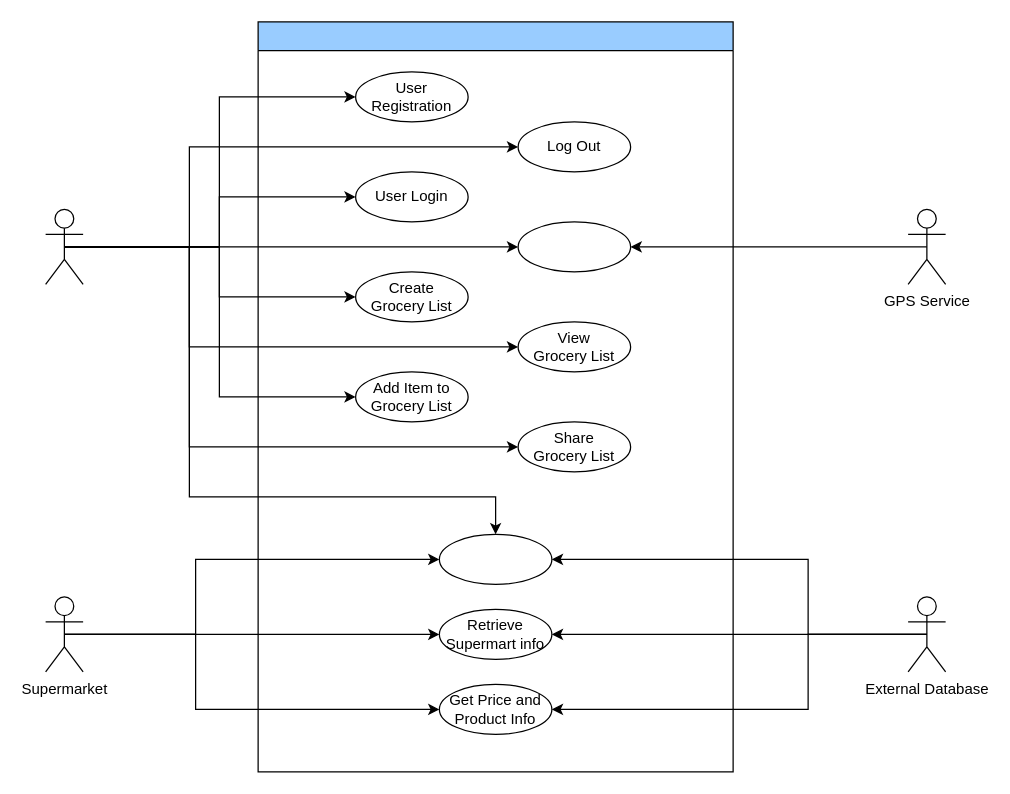
Some shapes in this 1010 by 794 pixel diagram are drawn without their labels. The shapes that lost their labels are listed below. From the top down, each one's box as (x1, y1, x2, y2) in pixels, then its label:
(44, 208, 83, 284): User
(517, 221, 631, 272): Find Nearest Supermarket
(257, 21, 733, 772): Smart Shopper
(438, 533, 552, 584): Compare Prices
